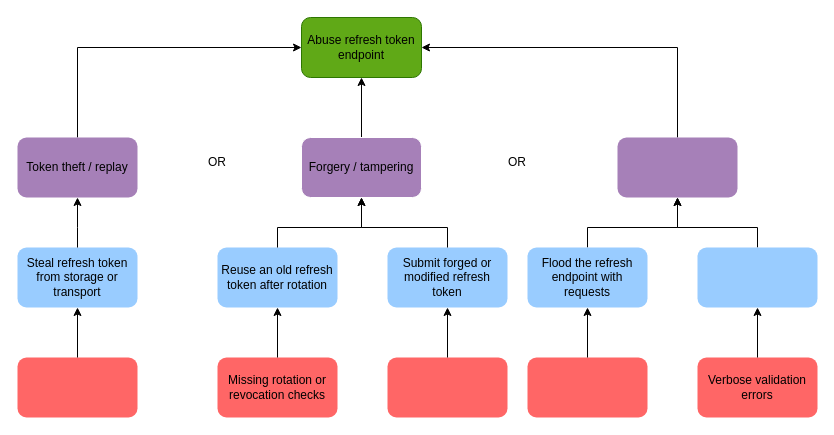
Some shapes in this 834 by 435 pixel diagram are drawn without their labels. Each missing label, with the centre of its shape:
"DoS / error probing" goes at point (677, 167).
"Insecure token storage or HTTP interception" goes at point (77, 387).
"No throttling or rate limiting" goes at point (587, 387).
"Probe refresh failure messages" goes at point (757, 277).
"Weak token verification" goes at point (447, 387).
